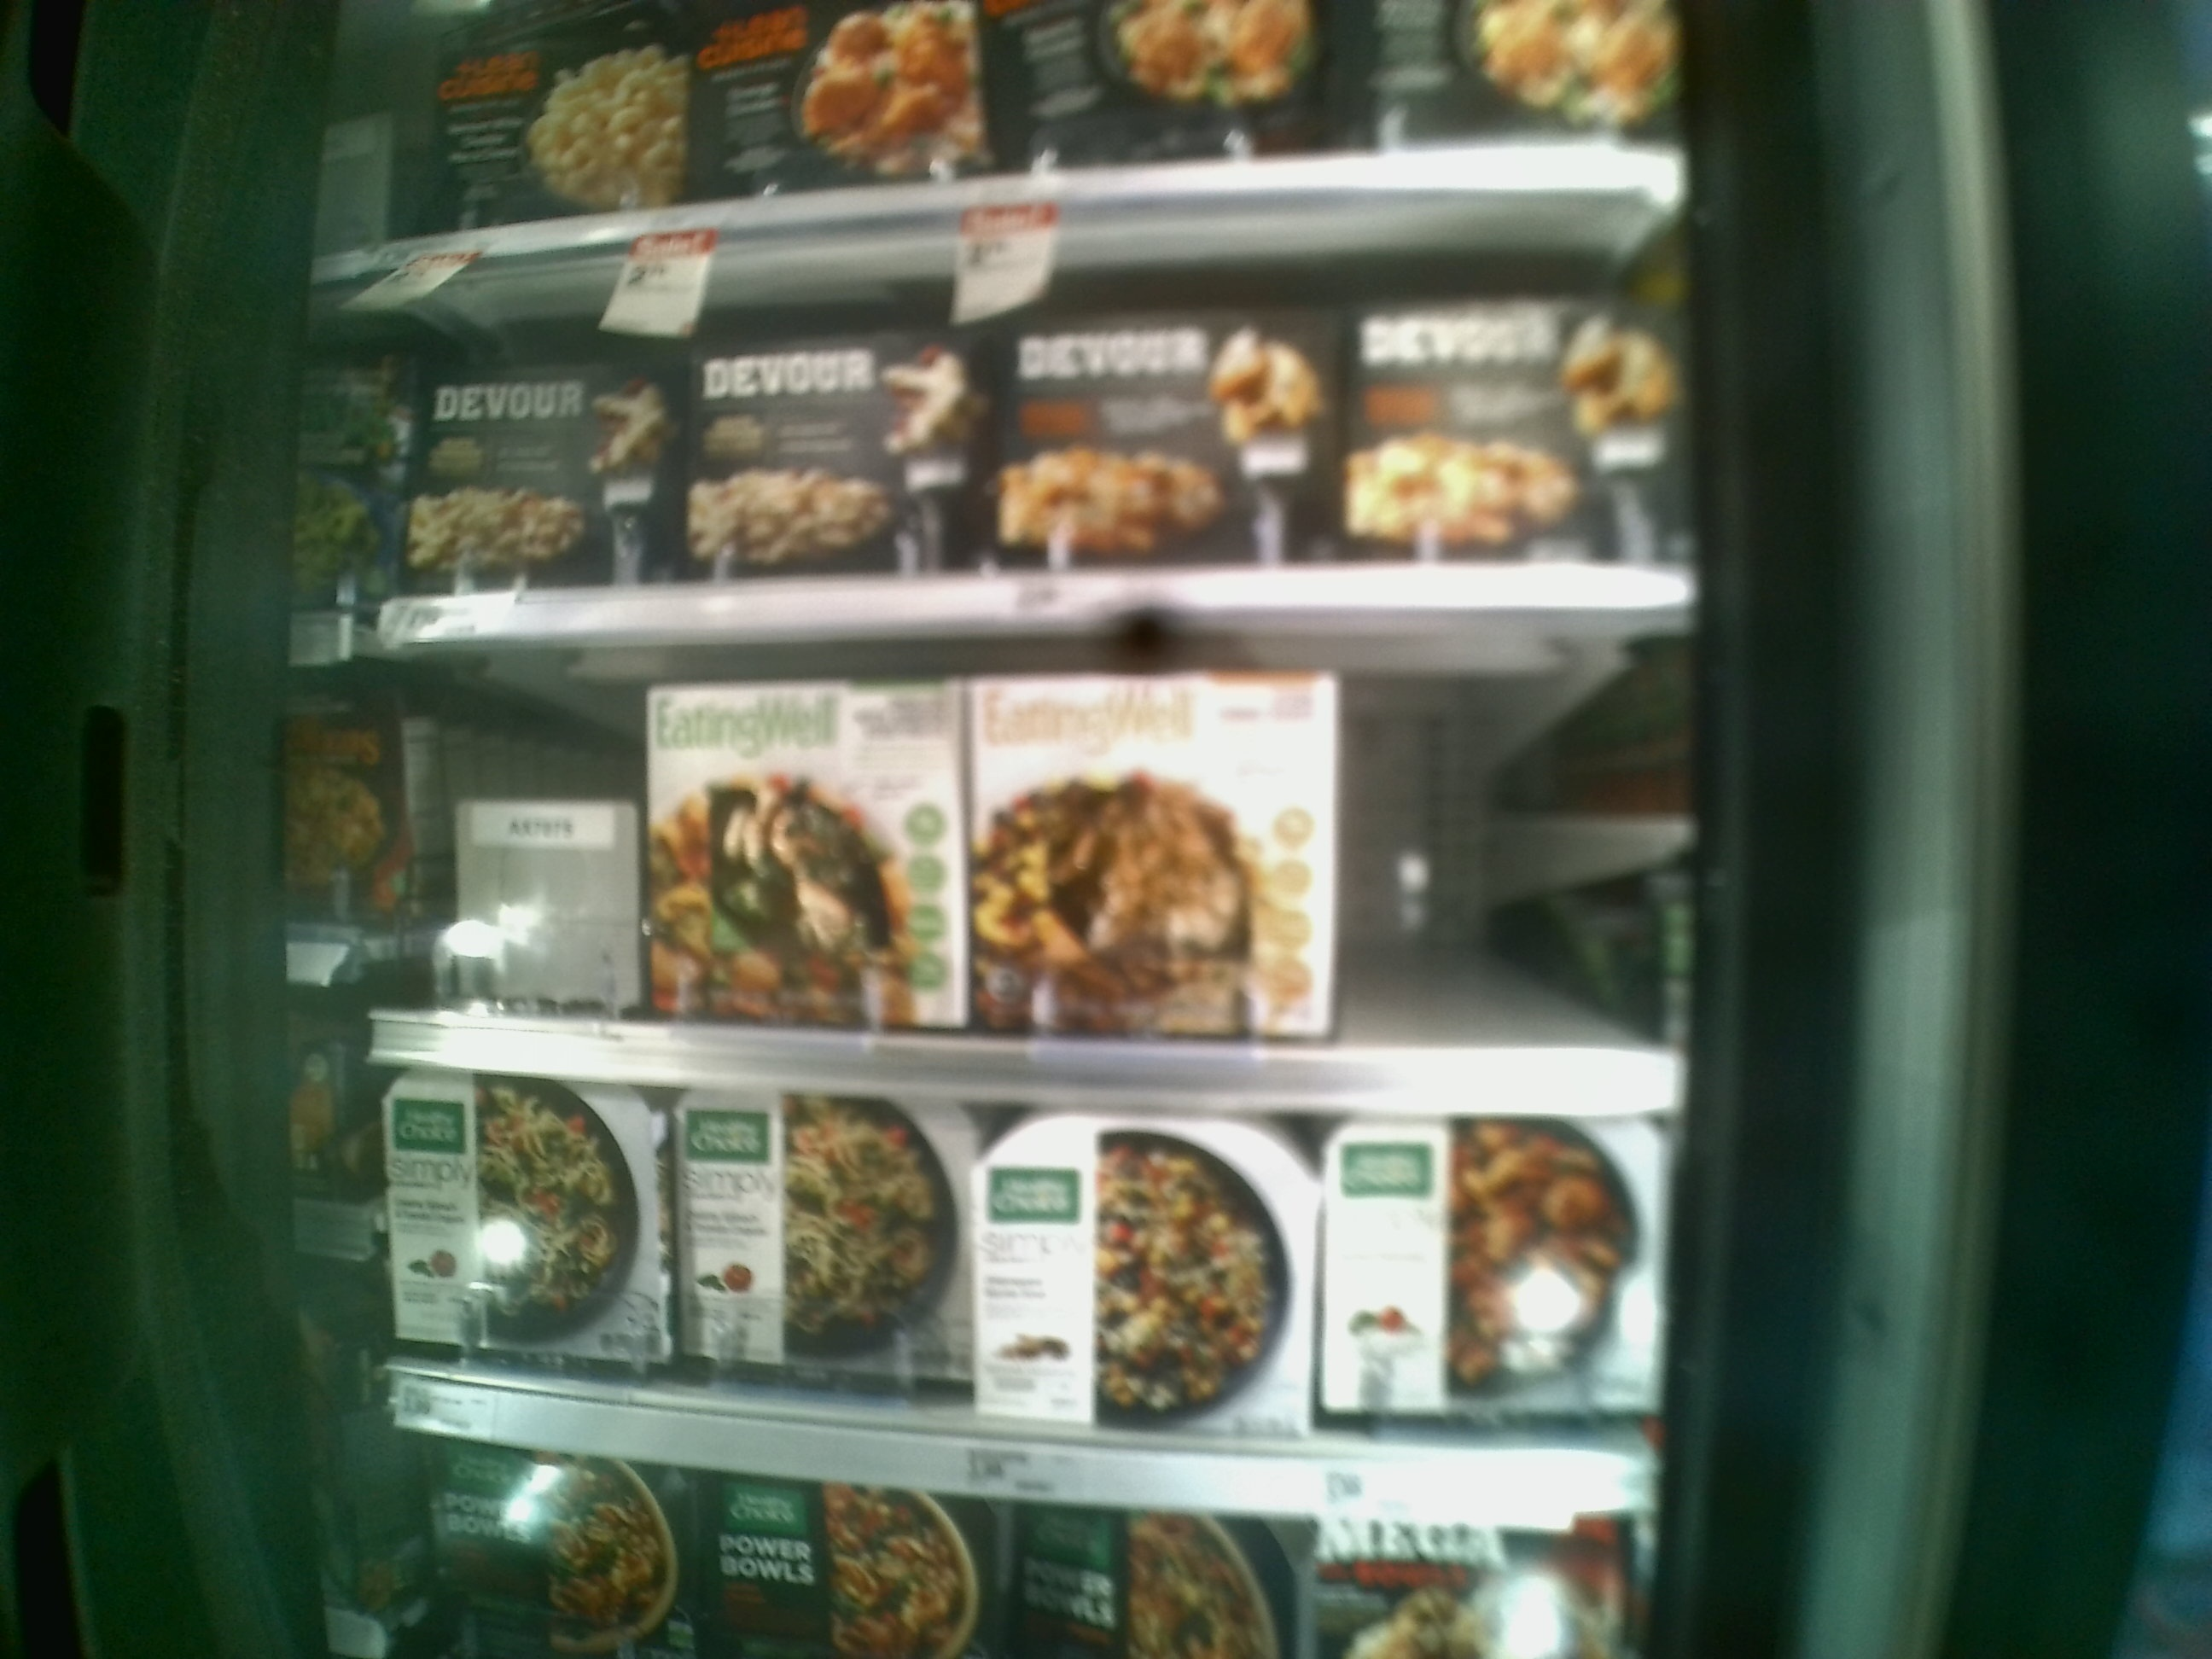shelf: (320, 606, 1681, 1119), (284, 193, 1684, 659), (369, 1063, 1663, 1527)
